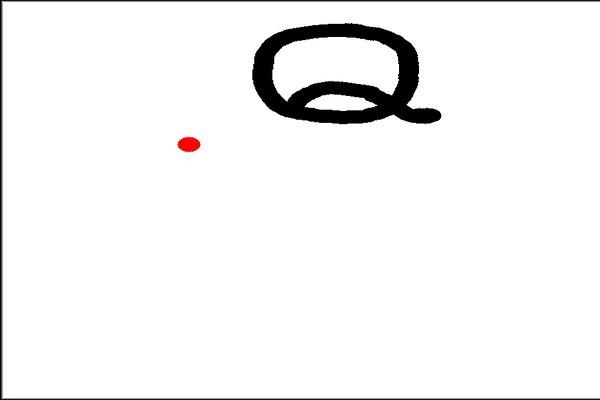Q: (237, 13, 443, 140)
